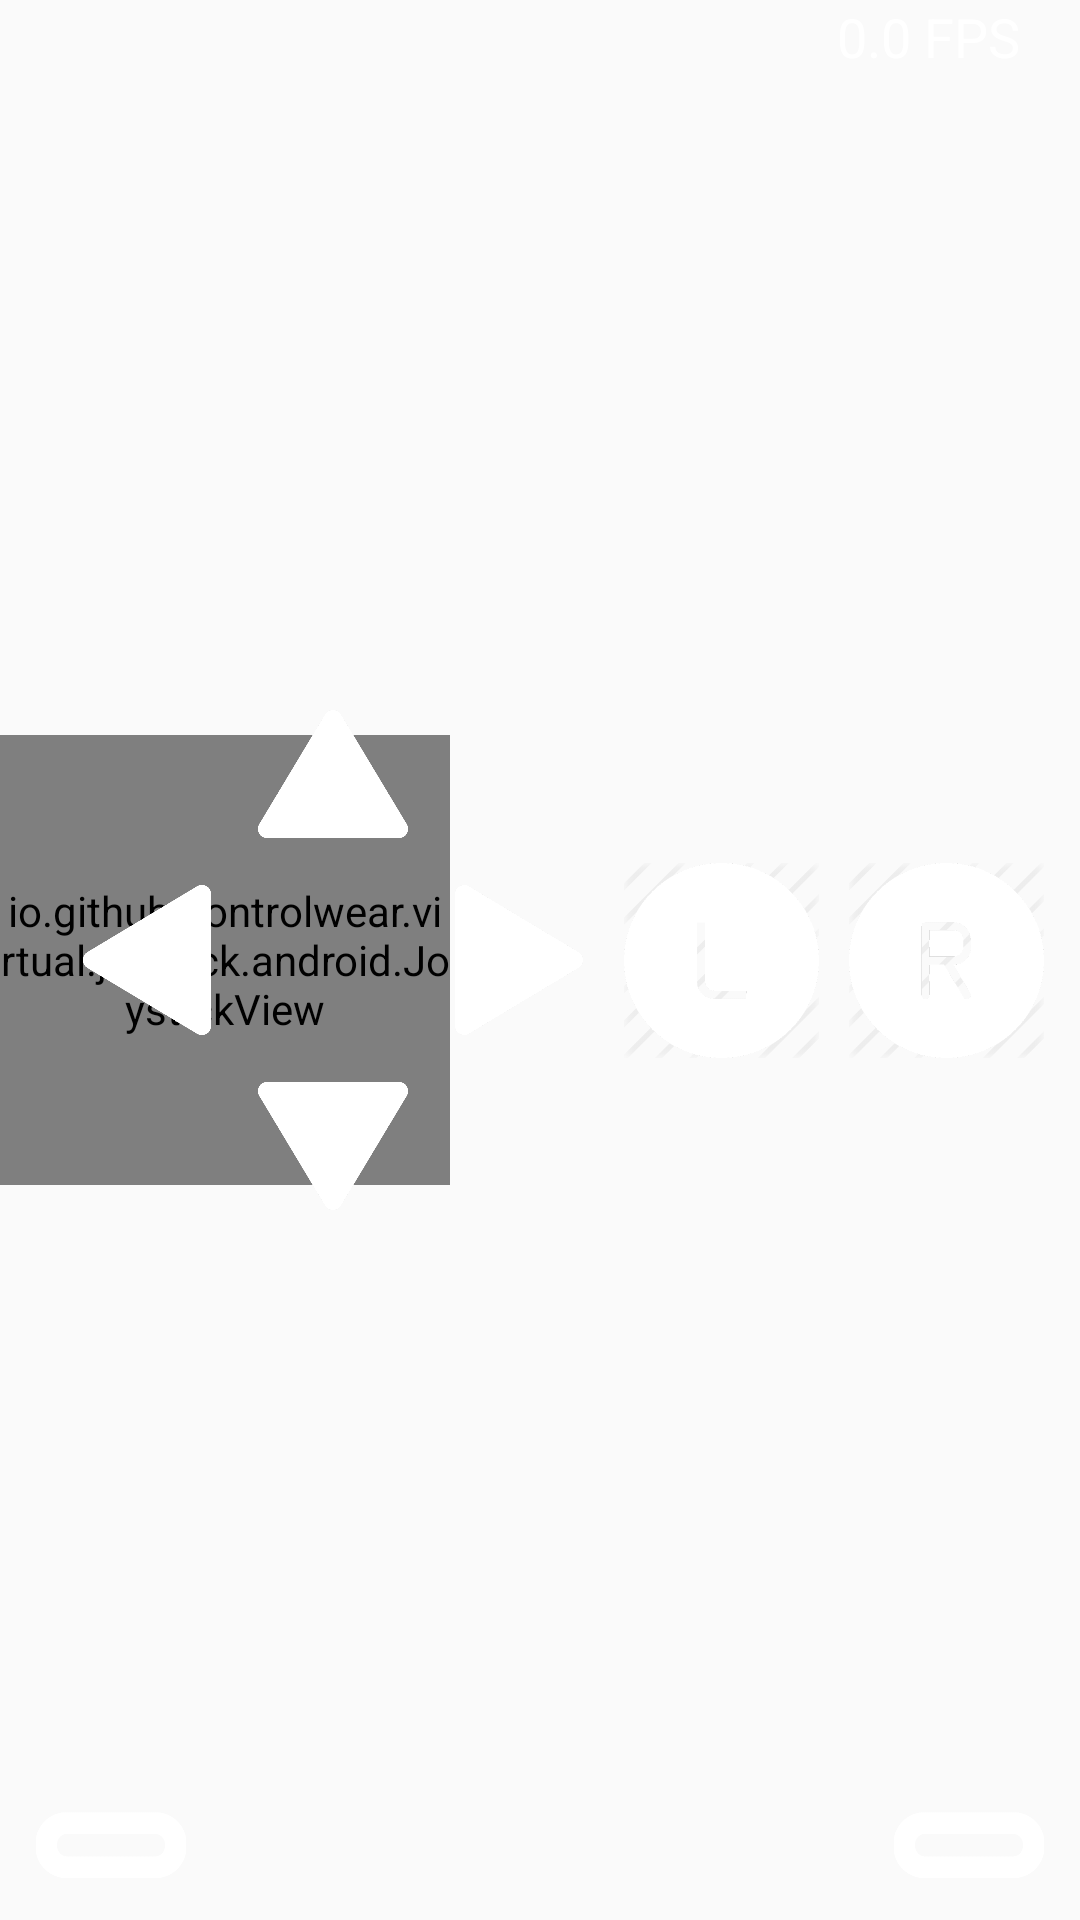

Icons on this 1080*1920 Android screen, each with its box as (x1, y1, x2, y2):
left: (79, 885, 222, 1035)
